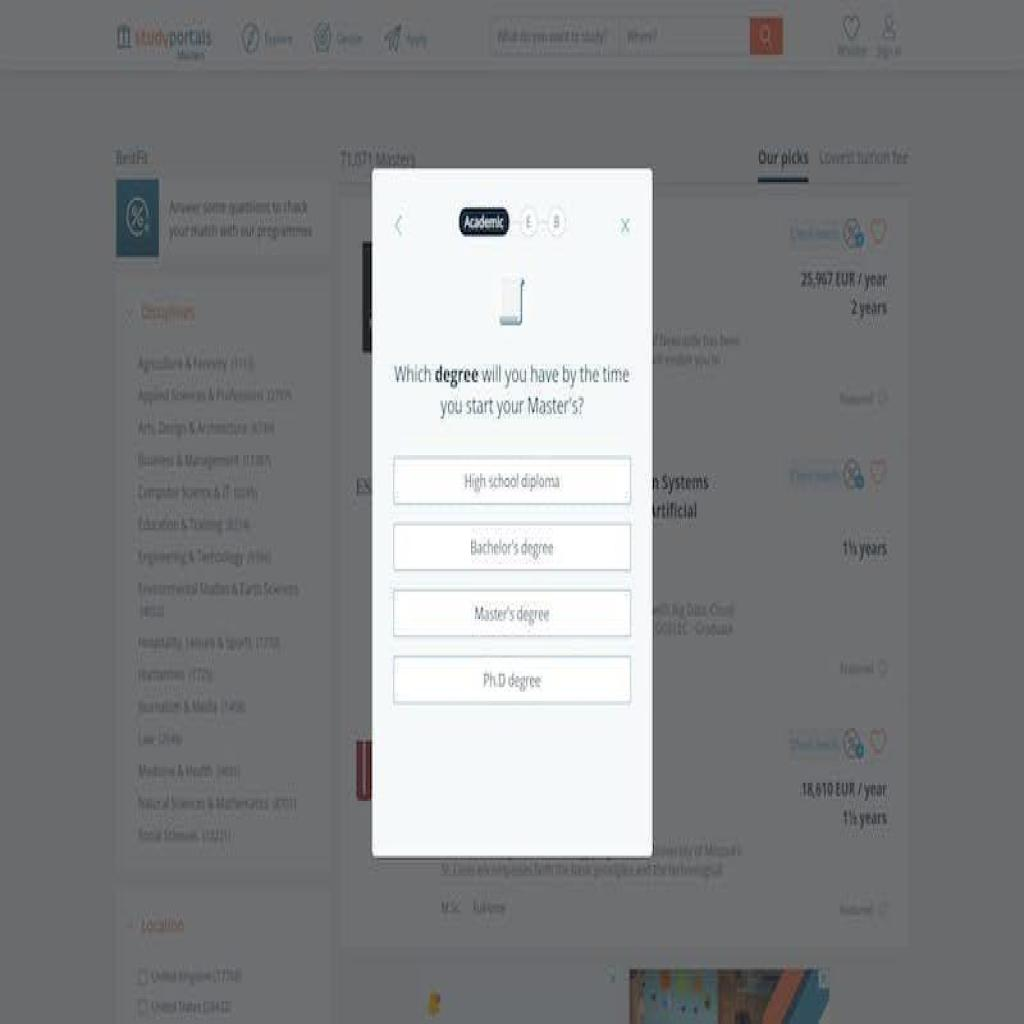button: (394, 519, 631, 569), (393, 458, 631, 506), (393, 590, 631, 638), (393, 653, 631, 701)
icon: (390, 207, 408, 244), (617, 212, 632, 239)
label: (385, 353, 636, 430)
